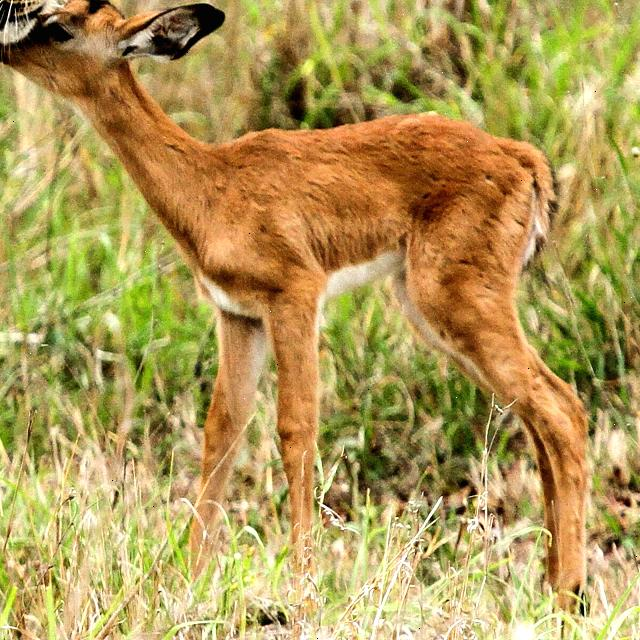deer: (0, 0, 206, 142)
